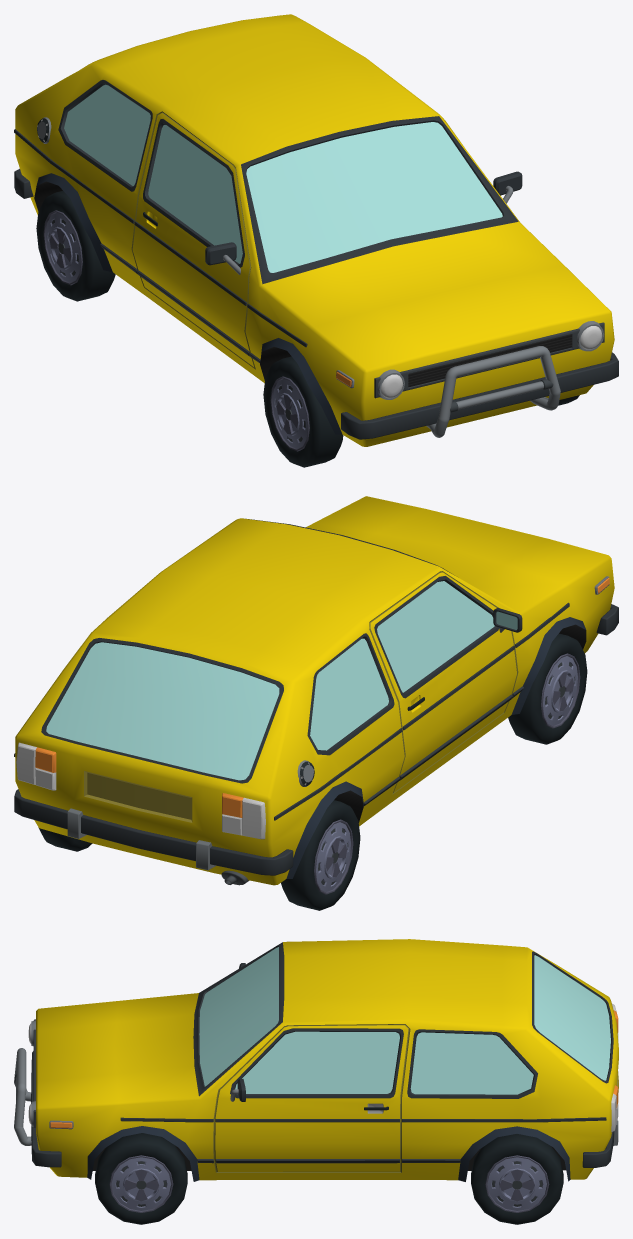
File: SM_Vehicles_02_V1.fbx
3 renders of one model, top to bottom at view 1: azimuth 30°, elevation 25°; view 2: azimuth 150°, elevation 25°; view 3: azimuth 270°, elevation 25°, orthographic. The views are drawn at different scales.
Parts seen in each view (by area): view 1: SM_Vehicles_02_V1, SM_Vehicles_02_FR, SM_Vehicles_02_RR; view 2: SM_Vehicles_02_V1, SM_Vehicles_02_RR, SM_Vehicles_02_FR, SM_Vehicles_02_RL; view 3: SM_Vehicles_02_V1, SM_Vehicles_02_FL, SM_Vehicles_02_RL.
Boxes of the visible parts, x1,y1,x2,y2 form: SM_Vehicles_02_V1: [14, 14, 618, 446]; SM_Vehicles_02_FR: [263, 356, 343, 467]; SM_Vehicles_02_RR: [36, 191, 115, 301]; SM_Vehicles_02_V1: [14, 496, 618, 885]; SM_Vehicles_02_RR: [281, 800, 360, 910]; SM_Vehicles_02_FR: [508, 633, 587, 744]; SM_Vehicles_02_RL: [38, 827, 92, 851]; SM_Vehicles_02_V1: [14, 939, 618, 1181]; SM_Vehicles_02_FL: [95, 1133, 187, 1224]; SM_Vehicles_02_RL: [471, 1134, 563, 1224].
Bounding box in the file's own units: 1.9 × 1.38 × 3.81.
